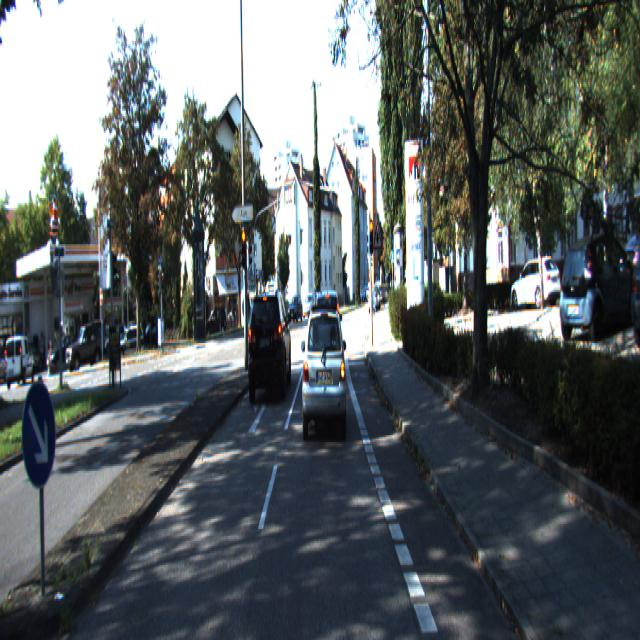Car: (559, 231, 640, 344), (302, 303, 348, 434), (248, 291, 291, 402), (315, 291, 343, 380)
